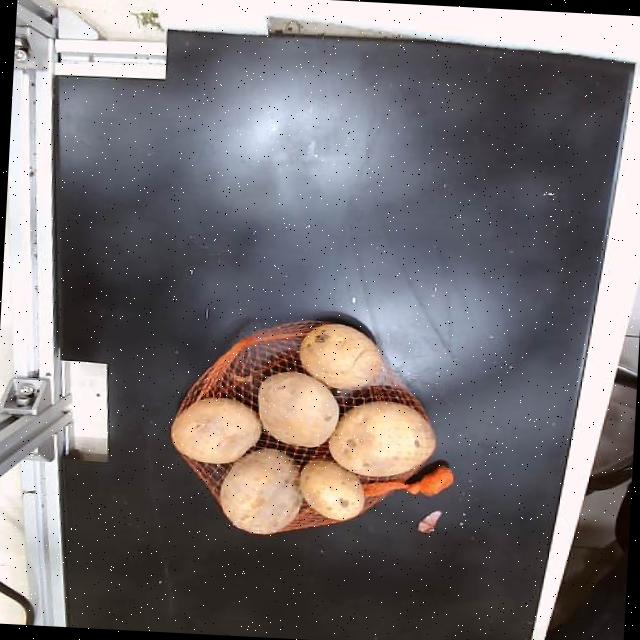potato: (328, 401, 436, 477), (219, 448, 302, 534), (258, 373, 339, 447), (171, 398, 261, 463), (299, 324, 383, 389), (299, 461, 361, 521)
